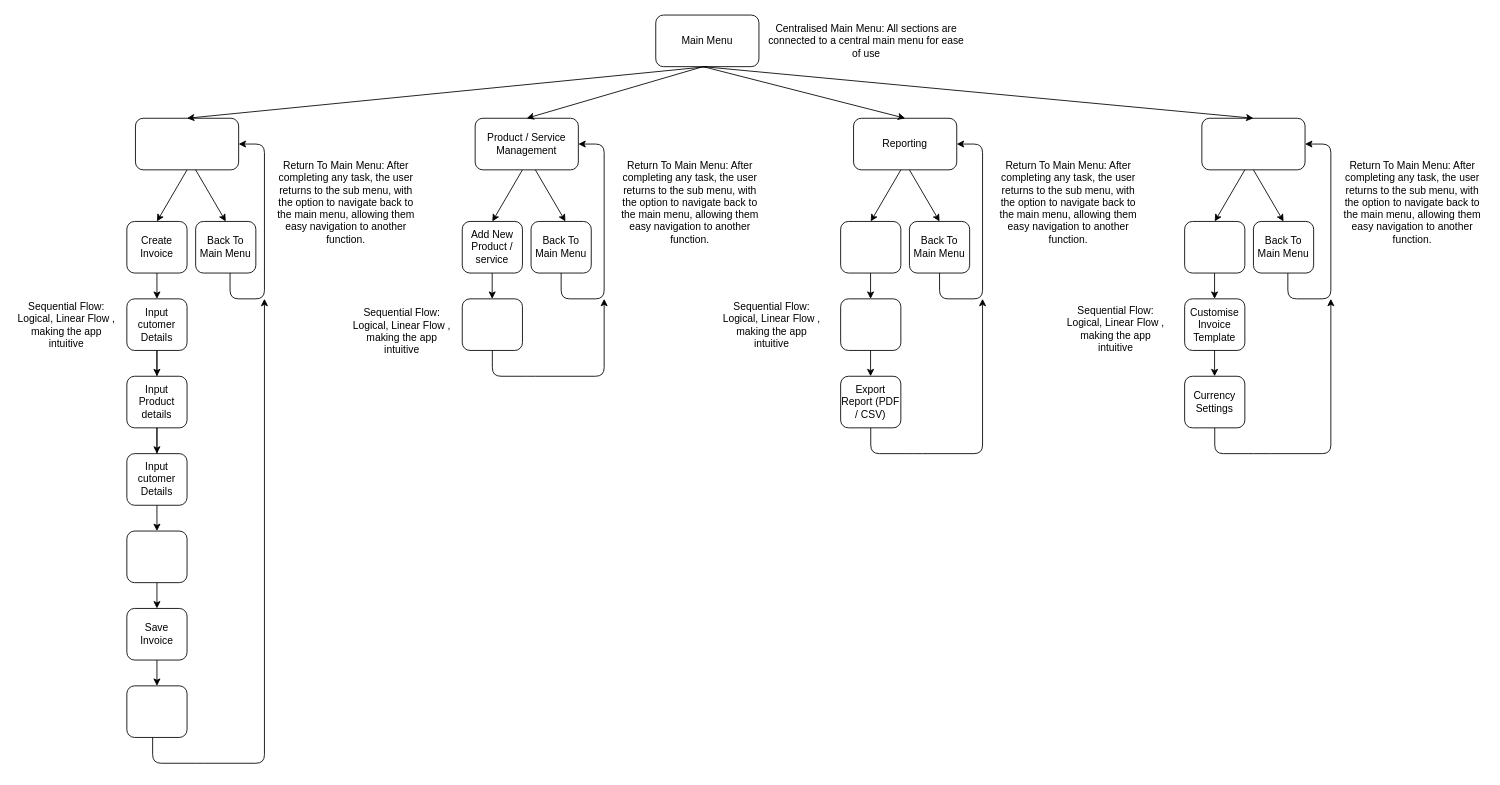
This 1500x785 diagram has some shape labels left out. The shapes that lost their labels are listed below. From the top down, each one's box as (x1, y1, x2, y2) in pixels, then its label:
(135, 117, 239, 170): Invoice Management
(1201, 117, 1305, 170): Settings
(840, 221, 901, 273): Generate Reports
(1184, 221, 1245, 273): Configure Tax
(461, 298, 522, 350): Update / delete Product / Service
(840, 298, 901, 350): Filter by Date / Customer / Product
(126, 530, 187, 583): Generate Unique Invoice ID
(126, 685, 187, 737): View / Update / Delete Invoice
